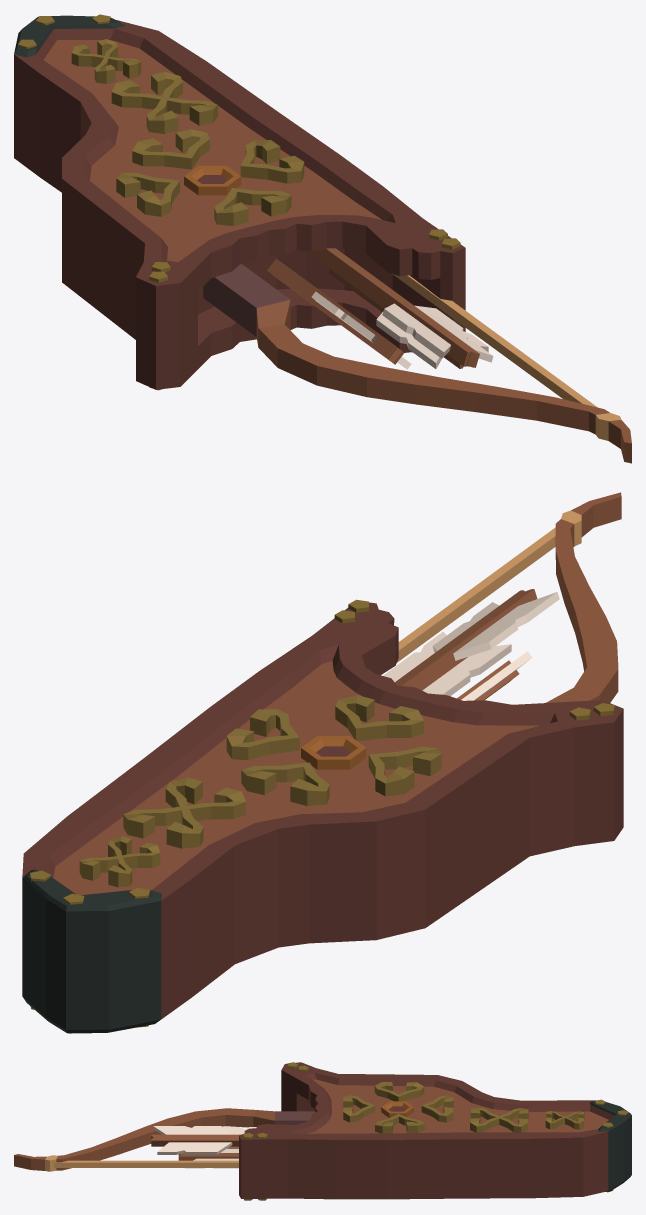
Rendered from sagaidak_treasure.fbx.
3 views of the same model, one above another, from view 1: azimuth 30°, elevation 25°; view 2: azimuth 150°, elevation 25°; view 3: azimuth 270°, elevation 25° (orthographic). The views are drawn at different scales.
Parts seen in each view (by area): view 1: sagaidak_treasure; view 2: sagaidak_treasure; view 3: sagaidak_treasure.
Part boxes in pixels (x1,y1,x2,y2): sagaidak_treasure: [14, 14, 631, 463]; sagaidak_treasure: [22, 492, 623, 1033]; sagaidak_treasure: [14, 1062, 631, 1200].
Size of the model in its own units: 26.67 by 10.48 by 89.59.
